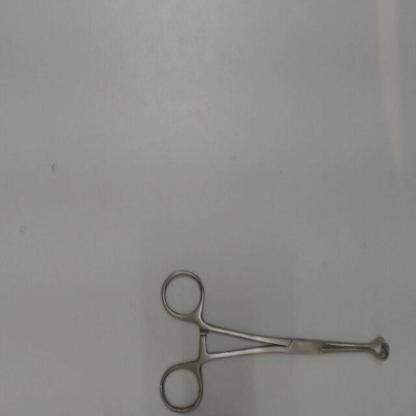Babcock Tissue Forceps: (156, 259, 393, 414)
